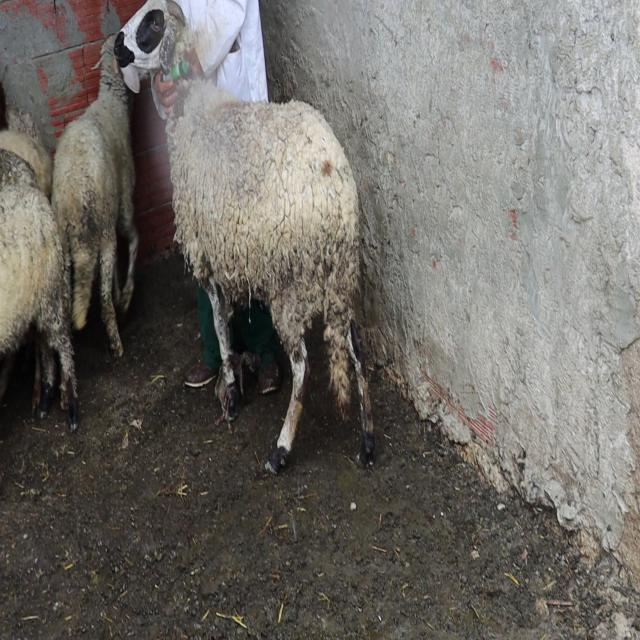Score_3: (167, 80, 375, 473)
